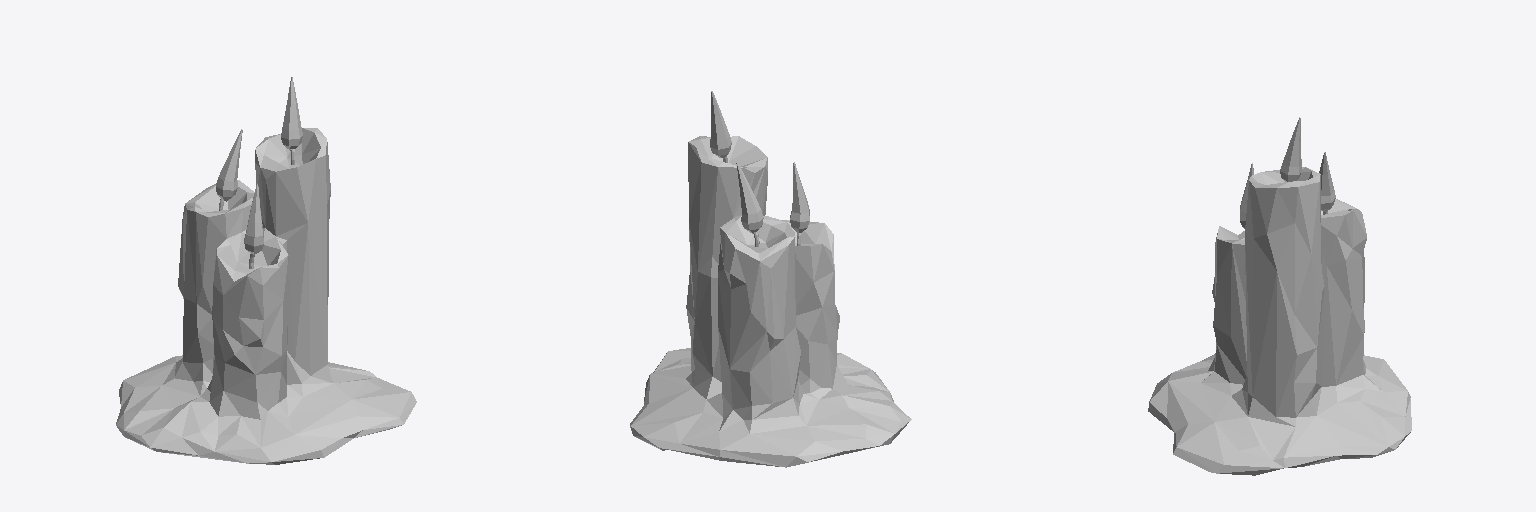
The model's file is candle17.obj.
The picture shows the model from 3 angles: view 1: azimuth 30°, elevation 25°; view 2: azimuth 150°, elevation 25°; view 3: azimuth 270°, elevation 25°; orthographic projection.
Visible parts, largest first — view 1: Object003, candleflame002, candleflame003, candleflame001; view 2: Object003, candleflame002, candleflame003, candleflame001; view 3: Object003, candleflame003, candleflame002.
Part boxes in pixels (bbox=[...]): Object003: bbox=[116, 128, 416, 464]; candleflame002: bbox=[216, 129, 242, 201]; candleflame003: bbox=[281, 77, 302, 149]; candleflame001: bbox=[244, 183, 263, 254]; Object003: bbox=[630, 136, 911, 467]; candleflame002: bbox=[736, 162, 763, 233]; candleflame003: bbox=[710, 91, 731, 157]; candleflame001: bbox=[790, 162, 809, 232]; Object003: bbox=[1148, 167, 1411, 475]; candleflame003: bbox=[1280, 117, 1301, 181]; candleflame002: bbox=[1319, 152, 1335, 211].
Size of the model in its own units: 1.05 by 1.24 by 0.9231.